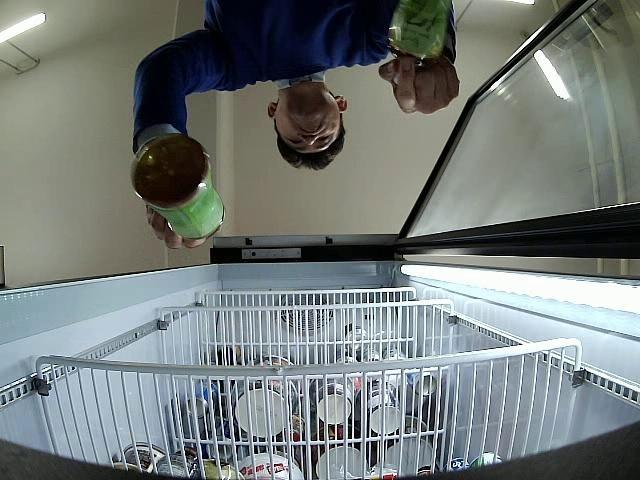19_17cha: (127, 134, 225, 240), (388, 0, 455, 86)
